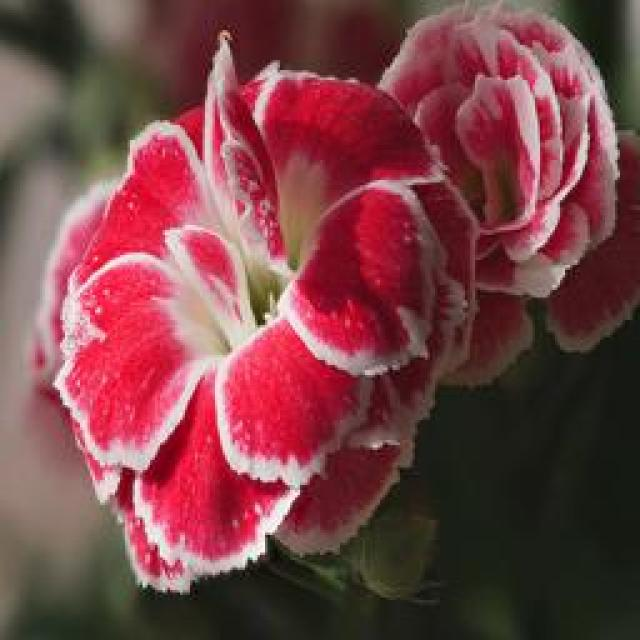carnation: (39, 33, 490, 599)
